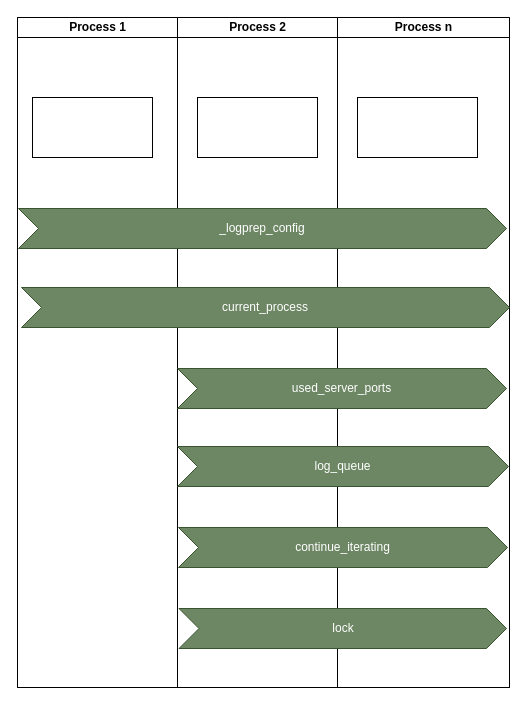
This 527x705 diagram has some shape labels left out. Each missing label, with the box of its shape:
main(): (32, 96, 152, 158)
pipeline n: (356, 96, 478, 158)
pipeline1: (196, 96, 318, 158)
